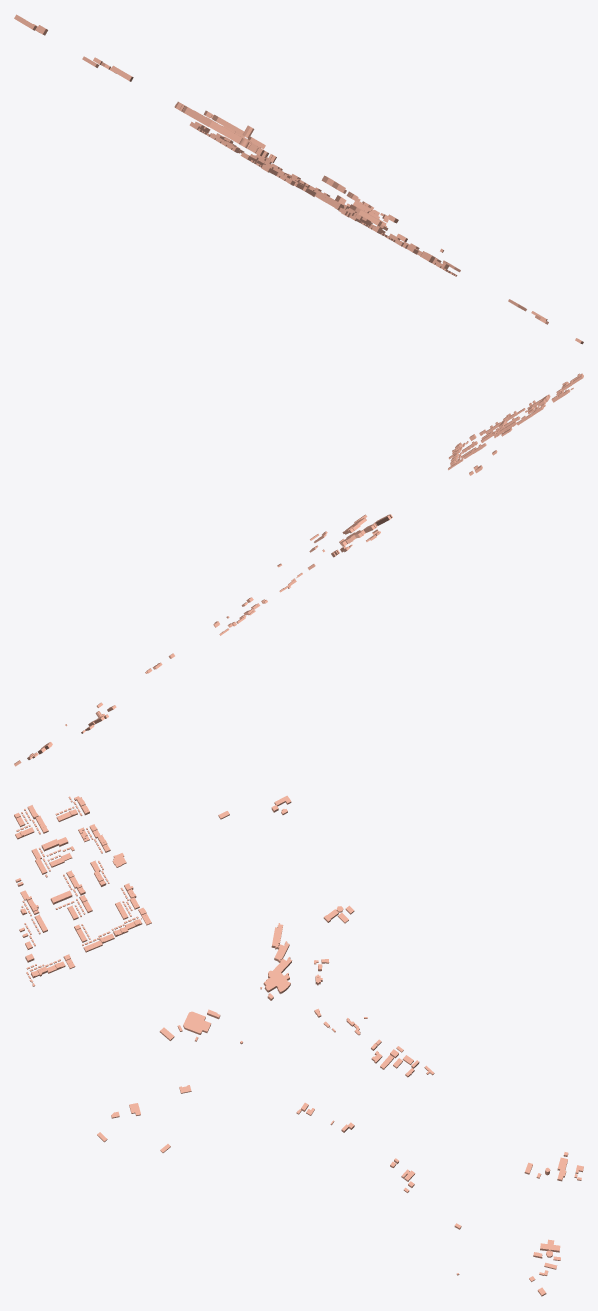
3 views of the same model, one above another, from view 1: azimuth 30°, elevation 25°; view 2: azimuth 150°, elevation 25°; view 3: azimuth 270°, elevation 25° (orthographic). The views are drawn at different scales.
Size of the model in its own units: 882 by 725 by 1159.
